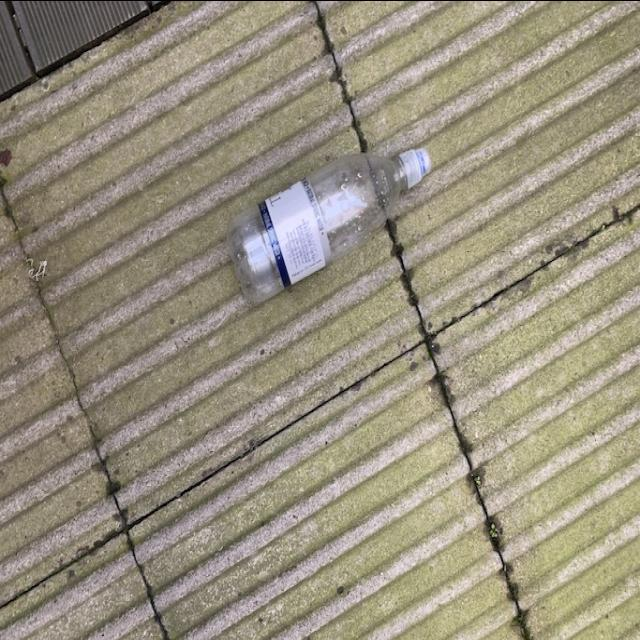litter: (224, 134, 436, 304)
